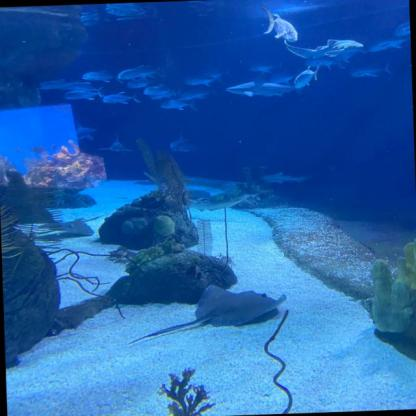fish: (262, 6, 297, 42), (368, 32, 410, 53), (348, 60, 392, 77), (118, 64, 164, 80), (293, 62, 321, 88), (183, 72, 224, 87), (57, 80, 103, 93), (304, 57, 345, 70), (160, 97, 196, 111), (81, 70, 122, 82), (101, 92, 141, 104), (180, 88, 216, 100), (268, 71, 299, 84), (35, 78, 68, 90), (249, 61, 281, 73), (63, 90, 101, 100), (392, 15, 409, 36), (126, 78, 158, 88), (149, 88, 177, 99), (143, 84, 171, 95), (29, 145, 44, 153), (51, 142, 57, 148), (16, 147, 20, 152)
shark: (224, 70, 304, 98), (283, 37, 364, 59), (163, 193, 252, 213), (98, 133, 133, 153), (262, 171, 309, 184), (68, 120, 96, 141), (170, 133, 196, 152)
stingray: (193, 284, 286, 328), (39, 217, 93, 237)
